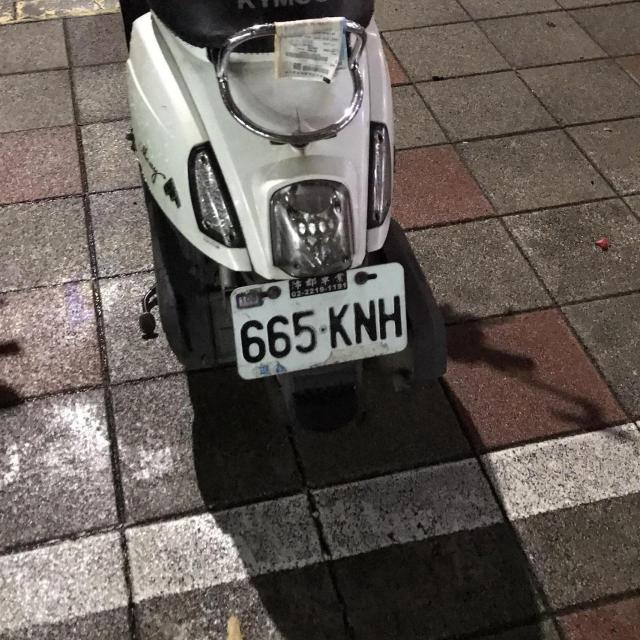W: (225, 260, 418, 387)
